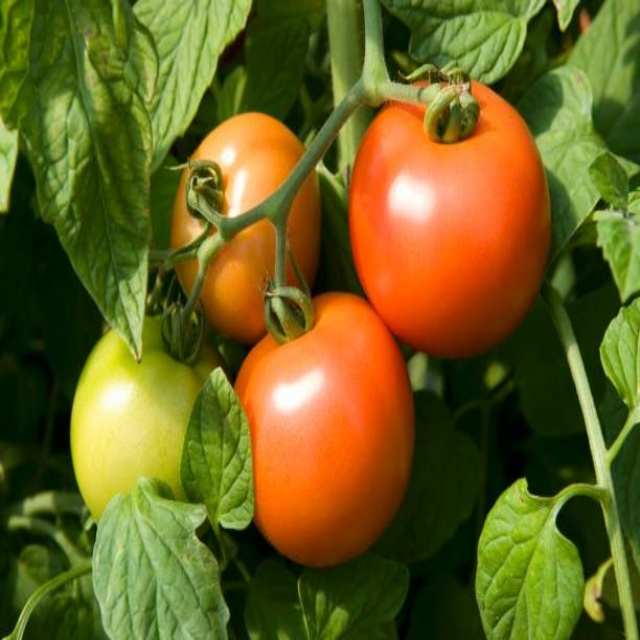tomato: (349, 81, 547, 359), (239, 293, 419, 569), (166, 106, 328, 344), (76, 318, 221, 528)
